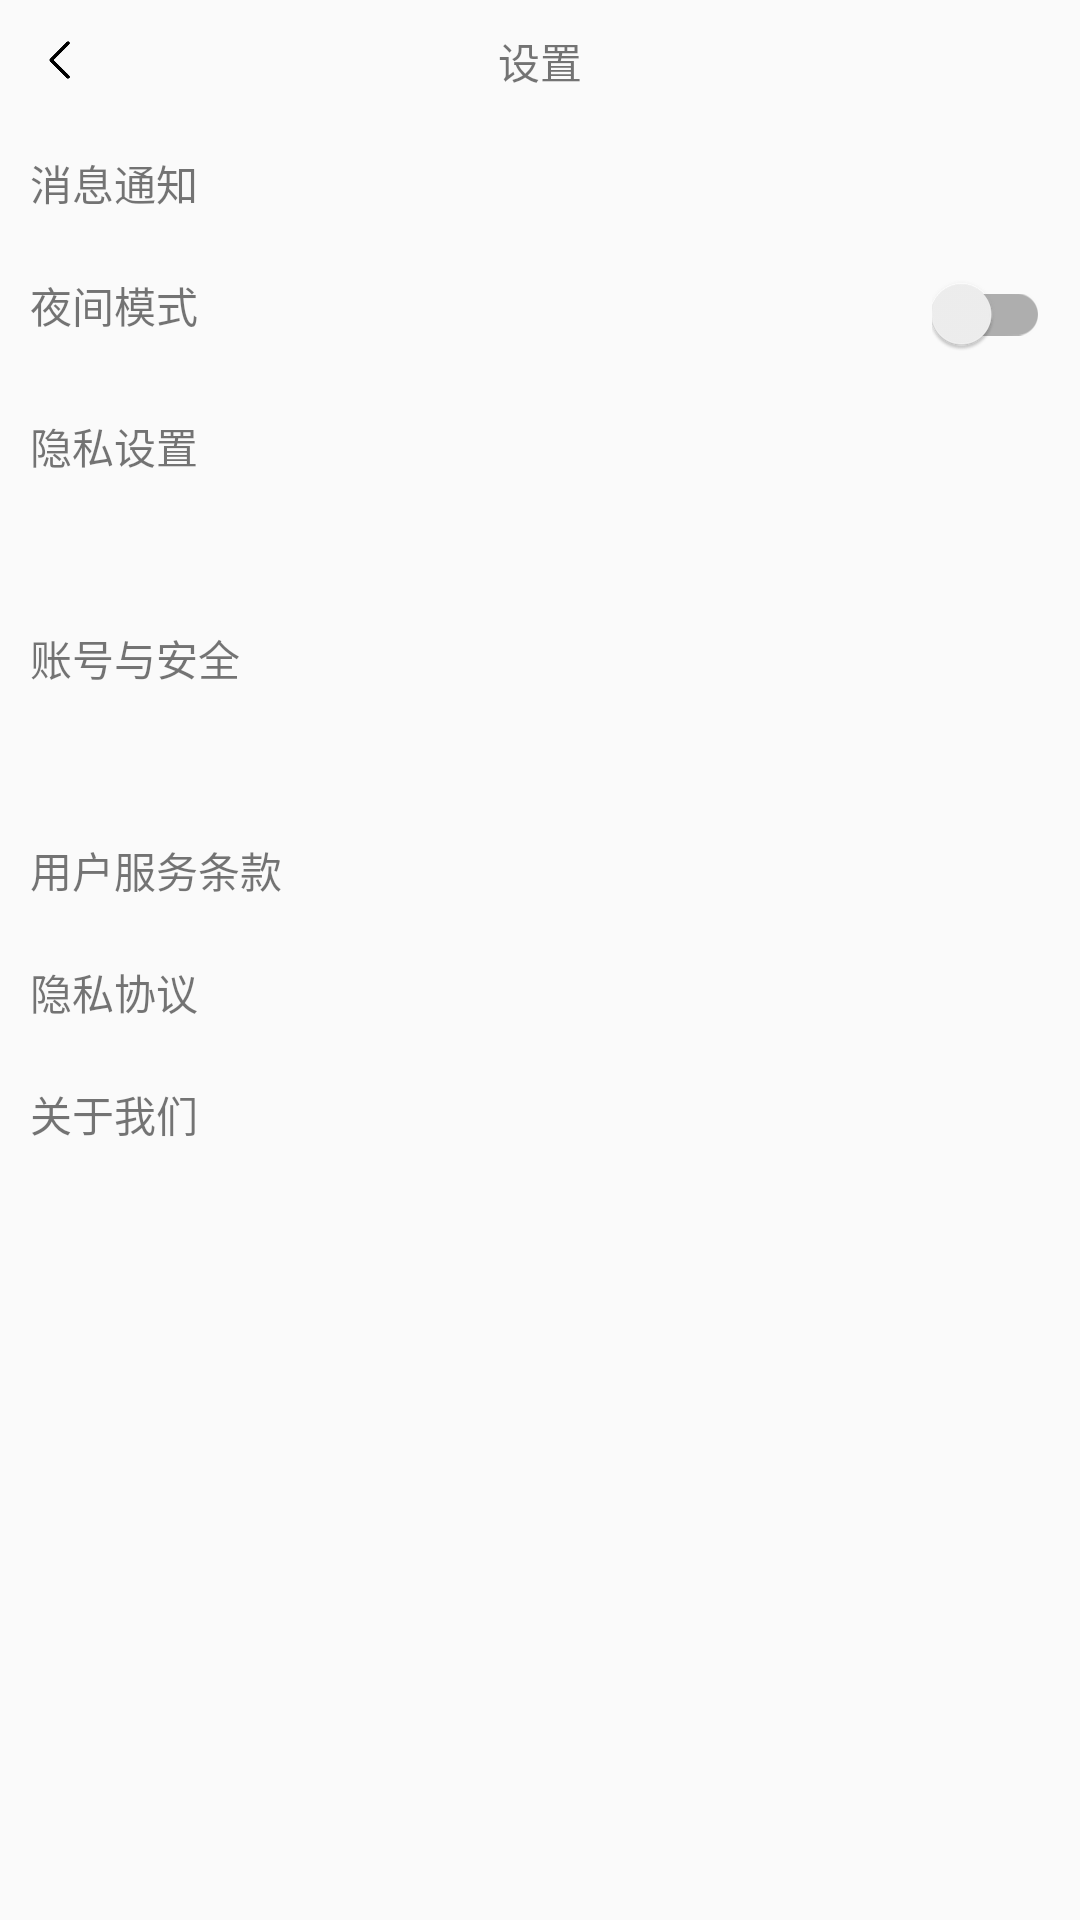

Screen size 1080 × 1920. Icon name, then its box in pixels as (x1, y1, x2, y2):
leftjiantou: (49, 41, 70, 79)
